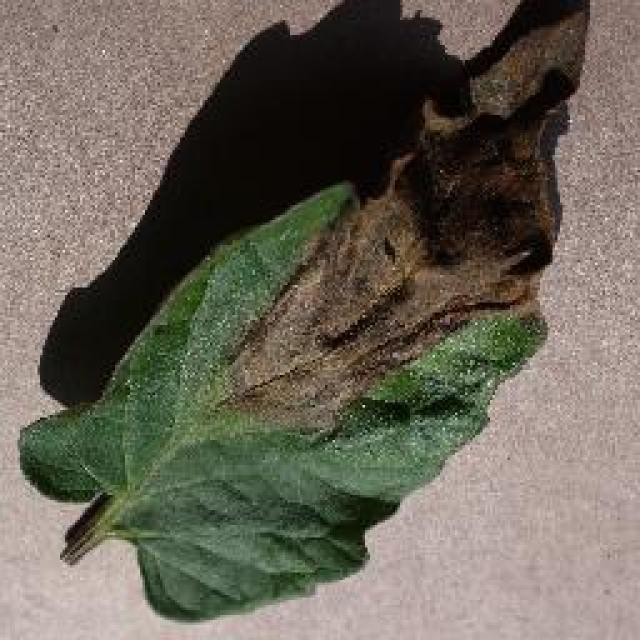Tomato late blight leaf: (17, 0, 590, 615)
